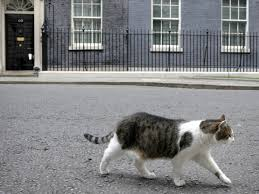cat: (83, 111, 235, 189)
